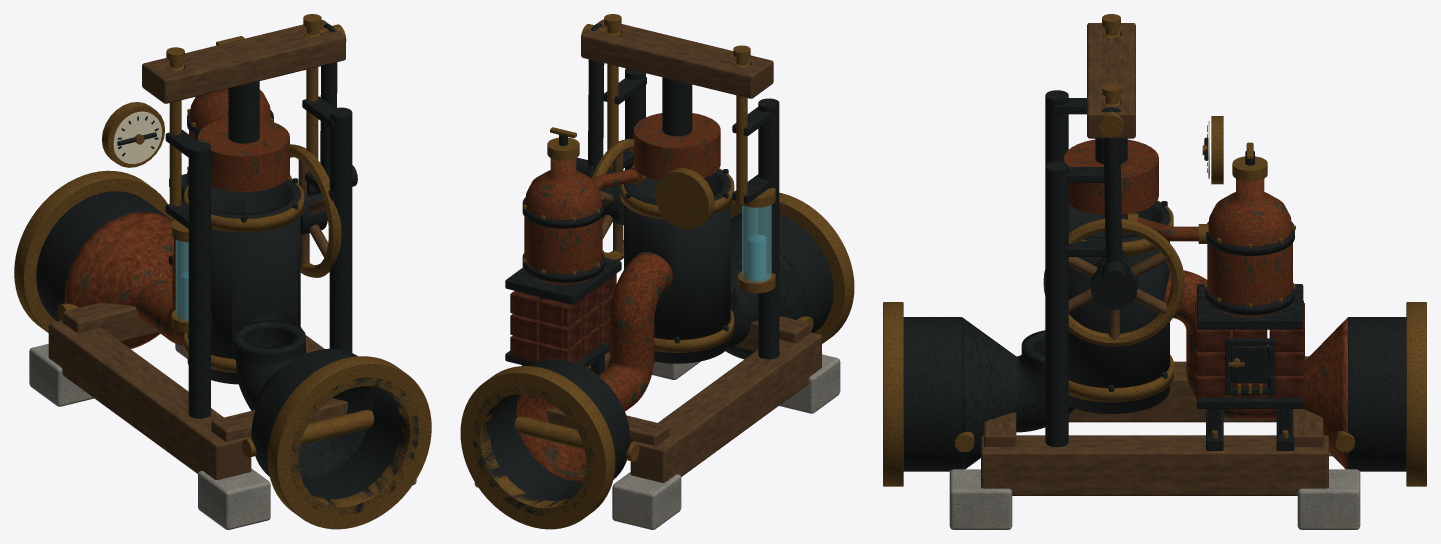
Rendered from pipe-pump-v3.glb.
3 renders of one model, left to right at view 1: azimuth 30°, elevation 25°; view 2: azimuth 150°, elevation 25°; view 3: azimuth 270°, elevation 25°, orthographic. The views are drawn at different scales.
Visible parts, largest first — view 1: PORT | inlet-south | machine_collar, FRAME | rough lengthwise timber runner, V3 PRESSURE | hollow cast pump barrel, PORT | inlet-south | machine_throat, V3 FLOW | hollow discharge beneath firebox, MOTION | crosshead on straight guides, V3 FLOW | hollow inlet reducer and circular elbow, FRAME | independent blackened steel riser, PORT | outlet-north | machine_collar, PORT | outlet-north | machine_throat, FRAME | independent blackened steel riser.001, MOTION | polished plunger head (+18 smaller); view 2: V3 PRESSURE | hollow cast pump barrel, PORT | outlet-north | machine_collar, FRAME | rough lengthwise timber runner, V3 FLOW | hollow discharge beneath firebox, PORT | outlet-north | machine_throat, MOTION | crosshead on straight guides, V3 BOILER | joined copper jacket and shouldered dome, FRAME | independent blackened steel riser, MOTION | polished plunger head, PORT | inlet-south | machine_collar, V3 FLOW | hollow inlet reducer and circular elbow, PORT | inlet-south | machine_throat (+34 smaller); view 3: FRAME | rough lengthwise timber runner.001, V3 PRESSURE | hollow cast pump barrel, PORT | inlet-south | machine_throat, PORT | outlet-north | machine_throat, V3 BOILER | joined copper jacket and shouldered dome, V3 FLOW | hollow inlet reducer and circular elbow, FRAME | independent blackened steel riser.001, V3 FLOW | hollow discharge beneath firebox, MOTION | crosshead on straight guides, MOTION | polished plunger head, PORT | inlet-south | machine_collar, PORT | outlet-north | machine_collar (+25 smaller).
Boxes of the visible parts, bbox=[...] form: PORT | inlet-south | machine_collar: bbox=[267, 356, 431, 529]; FRAME | rough lengthwise timber runner: bbox=[48, 320, 251, 479]; V3 PRESSURE | hollow cast pump barrel: bbox=[187, 179, 300, 384]; PORT | inlet-south | machine_throat: bbox=[251, 349, 418, 515]; V3 FLOW | hollow discharge beneath firebox: bbox=[64, 212, 183, 348]; MOTION | crosshead on straight guides: bbox=[142, 20, 345, 103]; V3 FLOW | hollow inlet reducer and circular elbow: bbox=[233, 320, 372, 478]; FRAME | independent blackened steel riser: bbox=[188, 142, 210, 418]; PORT | outlet-north | machine_collar: bbox=[14, 170, 173, 332]; PORT | outlet-north | machine_throat: bbox=[36, 191, 171, 321]; FRAME | independent blackened steel riser.001: bbox=[329, 107, 352, 352]; MOTION | polished plunger head: bbox=[198, 119, 289, 192]; V3 PRESSURE | hollow cast pump barrel: bbox=[624, 169, 730, 363]; PORT | outlet-north | machine_collar: bbox=[460, 366, 615, 529]; FRAME | rough lengthwise timber runner: bbox=[630, 332, 821, 482]; V3 FLOW | hollow discharge beneath firebox: bbox=[516, 251, 672, 481]; PORT | outlet-north | machine_throat: bbox=[473, 359, 630, 515]; MOTION | crosshead on straight guides: bbox=[581, 19, 773, 98]; V3 BOILER | joined copper jacket and shouldered dome: bbox=[524, 158, 602, 284]; FRAME | independent blackened steel riser: bbox=[758, 98, 779, 359]; MOTION | polished plunger head: bbox=[634, 113, 720, 180]; PORT | inlet-south | machine_collar: bbox=[730, 192, 854, 343]; V3 FLOW | hollow inlet reducer and circular elbow: bbox=[725, 230, 806, 359]; PORT | inlet-south | machine_throat: bbox=[730, 213, 833, 332]; FRAME | rough lengthwise timber runner.001: bbox=[981, 435, 1328, 495]; V3 PRESSURE | hollow cast pump barrel: bbox=[1068, 201, 1169, 413]; PORT | inlet-south | machine_throat: bbox=[903, 317, 961, 471]; PORT | outlet-north | machine_throat: bbox=[1348, 317, 1406, 471]; V3 BOILER | joined copper jacket and shouldered dome: bbox=[1207, 179, 1292, 317]; V3 FLOW | hollow inlet reducer and circular elbow: bbox=[962, 317, 1074, 469]; FRAME | independent blackened steel riser.001: bbox=[1045, 161, 1068, 447]; V3 FLOW | hollow discharge beneath firebox: bbox=[1164, 270, 1347, 469]; MOTION | crosshead on straight guides: bbox=[1087, 23, 1135, 138]; MOTION | polished plunger head: bbox=[1064, 139, 1158, 214]; PORT | inlet-south | machine_collar: bbox=[883, 302, 903, 486]; PORT | outlet-north | machine_collar: bbox=[1406, 302, 1426, 486].
Bounding box in the file's own units: 0.9 × 1.75 × 2.
Materials: 10 (7 with a texture image).
